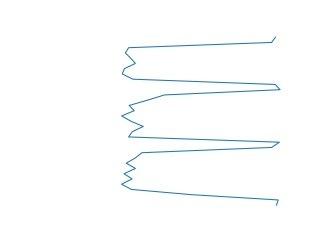majorRiverChannelBar: (118, 37, 285, 207)
